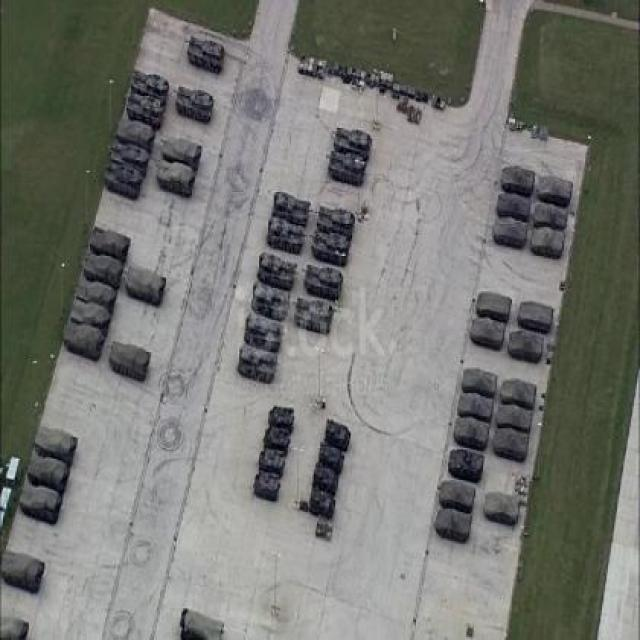tank: (0, 549, 47, 594), (16, 482, 63, 526), (104, 340, 150, 384), (28, 448, 70, 495), (33, 422, 80, 462), (123, 266, 167, 307), (173, 84, 216, 125), (63, 322, 106, 362), (178, 605, 227, 640), (236, 344, 279, 383), (250, 281, 291, 321), (184, 36, 226, 75), (88, 226, 131, 264), (102, 163, 148, 198), (258, 251, 298, 291), (155, 161, 197, 199), (242, 314, 284, 352), (268, 190, 312, 226), (290, 296, 334, 332), (325, 151, 368, 187), (73, 280, 116, 316), (264, 217, 308, 252), (491, 424, 531, 462), (108, 120, 153, 153), (72, 299, 110, 338), (81, 254, 122, 290), (302, 264, 346, 297), (482, 491, 522, 527), (314, 205, 355, 240), (435, 507, 473, 544), (438, 479, 476, 515), (499, 376, 537, 412), (122, 95, 164, 127), (516, 298, 554, 333), (452, 417, 490, 452), (495, 399, 534, 433), (162, 136, 202, 169), (492, 215, 529, 250), (501, 163, 537, 198), (312, 232, 349, 266), (530, 226, 566, 260), (448, 449, 485, 482), (461, 368, 499, 400), (130, 71, 170, 101), (332, 126, 372, 156), (534, 198, 569, 232), (469, 318, 505, 351), (476, 292, 513, 324), (506, 331, 544, 362), (536, 175, 573, 206), (457, 392, 494, 422), (494, 193, 533, 220), (308, 488, 338, 520), (324, 418, 350, 454), (319, 441, 345, 475), (252, 471, 281, 501), (312, 465, 339, 495), (256, 449, 285, 474), (263, 426, 290, 452), (267, 405, 294, 429)
